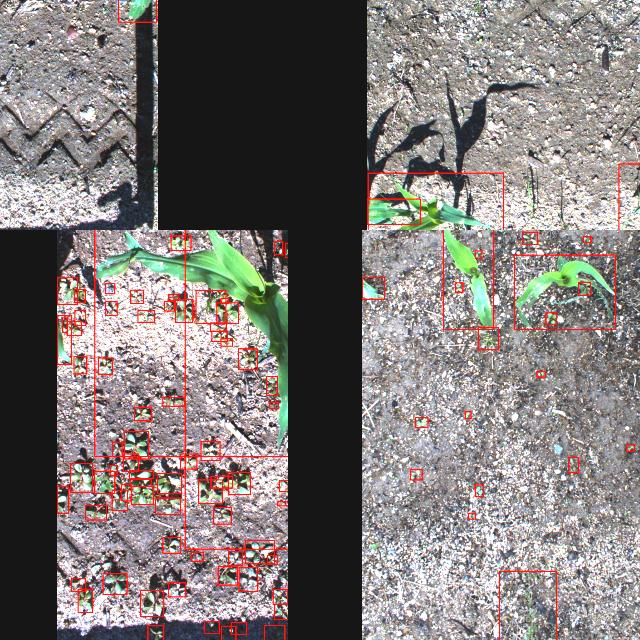crop: (94, 230, 288, 456), (184, 230, 288, 549), (367, 172, 503, 230), (514, 254, 614, 328), (442, 230, 493, 329), (366, 198, 420, 224), (56, 314, 70, 364), (361, 277, 383, 299)
weed: (498, 570, 555, 640), (195, 290, 225, 322), (122, 432, 148, 458), (244, 540, 274, 562), (70, 462, 92, 492), (139, 590, 163, 616), (198, 479, 222, 503), (102, 572, 126, 594), (156, 473, 182, 493), (56, 277, 76, 303), (228, 472, 250, 494), (216, 302, 238, 324), (94, 471, 115, 494), (238, 567, 258, 591), (478, 326, 498, 349), (174, 298, 192, 322), (154, 497, 180, 513), (200, 440, 220, 460), (130, 486, 152, 504), (76, 588, 92, 612), (238, 348, 256, 369), (84, 504, 106, 520), (263, 624, 284, 640), (56, 485, 68, 513), (218, 566, 236, 584), (213, 506, 231, 524), (170, 234, 190, 250), (162, 536, 180, 552), (122, 453, 138, 471), (112, 489, 126, 509), (210, 475, 232, 487), (147, 624, 163, 640), (272, 588, 288, 604), (72, 355, 86, 373), (168, 582, 185, 596), (220, 625, 235, 640), (273, 603, 288, 618), (180, 454, 196, 468), (134, 406, 150, 420), (97, 358, 111, 374), (162, 396, 184, 406), (228, 551, 242, 565), (66, 321, 80, 335), (70, 578, 86, 590), (230, 622, 246, 634), (137, 310, 153, 322), (128, 469, 152, 477), (521, 231, 537, 243), (266, 376, 276, 394), (204, 621, 218, 633), (104, 301, 116, 315), (211, 330, 227, 340), (111, 440, 121, 456), (130, 478, 150, 486), (120, 484, 130, 500), (568, 456, 578, 472), (74, 310, 85, 324), (74, 288, 85, 302), (210, 322, 226, 331), (130, 290, 142, 302), (578, 282, 590, 294), (414, 417, 428, 427), (409, 469, 421, 479), (545, 312, 555, 324), (473, 484, 482, 496), (274, 240, 282, 253), (267, 554, 277, 564), (163, 301, 173, 311), (104, 283, 114, 293), (279, 479, 288, 490), (191, 552, 203, 560), (220, 337, 232, 345), (109, 465, 117, 475), (454, 282, 462, 292), (62, 316, 66, 332), (268, 402, 278, 408), (284, 242, 288, 257), (168, 294, 178, 300), (626, 444, 634, 451), (583, 236, 591, 242), (464, 410, 470, 418), (475, 250, 481, 258), (277, 501, 288, 505), (468, 512, 474, 518), (220, 298, 228, 302), (536, 372, 544, 376)
